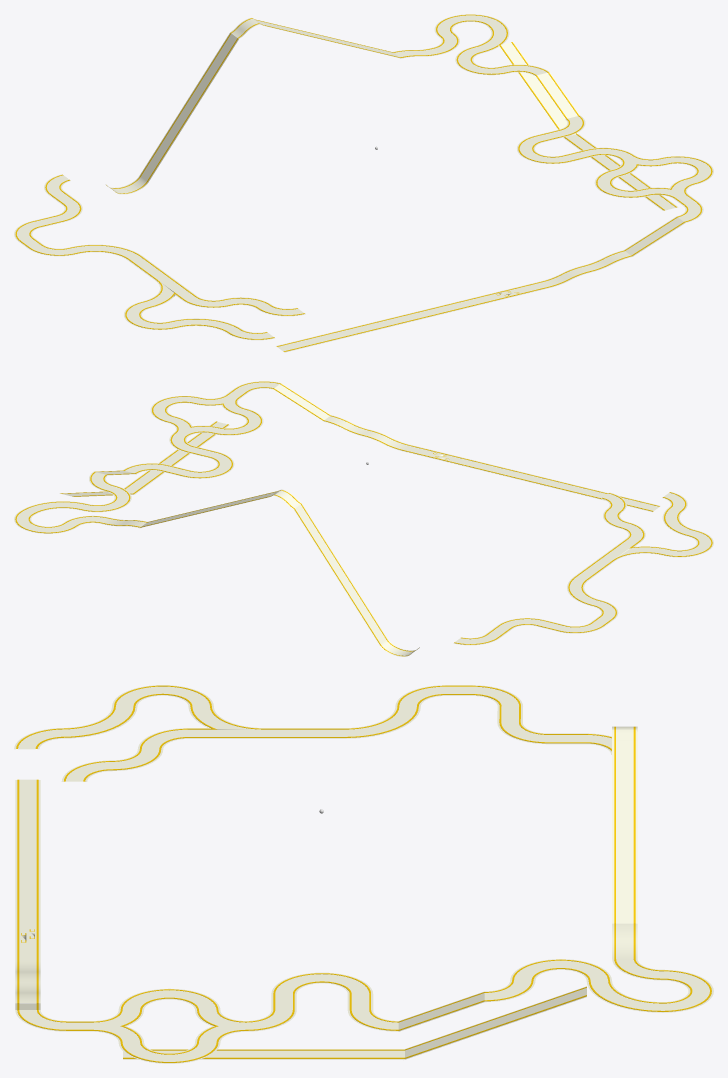
File: pistaAAAOOO.fbx
3 views of the same model, one above another, from view 1: azimuth 30°, elevation 25°; view 2: azimuth 150°, elevation 25°; view 3: azimuth 270°, elevation 25° (orthographic). The views are drawn at different scales.
Parts seen in each view (by area): view 1: roadStraightLong.001, roadStraightLong.014, roadCornerLarge.010, roadStraightLong.004, roadStraightLong.003, roadStraightLong.011, roadSplitLarger.001, roadCornerLarge.013, roadStraightLong.013, roadCornerLarge.014, roadStraightLong.012, roadCornerLarge.009 (+6 smaller); view 2: roadStraightLong.014, roadStraightLong.001, roadCornerLarge.010, roadStraightLong.003, roadSplitLarger.001, roadCornerLarge.014, roadCornerLarge.009, roadCornerLarge.026, roadStraightLong.013, roadCornerLarge.013, roadStraightLong.012, roadCornerLarger (+4 smaller); view 3: roadStraightLong.013, roadStraightLong.001, roadCornerLarge.010, roadStraightLong.003, roadStraightLong.004, roadSplitLarger.001, roadCornerLarge.013, roadCornerLarge.026, roadCornerLarge.009, roadCornerLarge.014, roadCornerLarger.001, roadCornerLarger (+18 smaller).
Part boxes in pixels (box(x1,y1,x2,y2)): roadStraightLong.001: box(276, 293, 501, 352); roadStraightLong.014: box(139, 33, 238, 182); roadCornerLarge.010: box(594, 156, 713, 197); roadStraightLong.004: box(498, 42, 577, 135); roadStraightLong.003: box(563, 134, 678, 210); roadStraightLong.011: box(534, 72, 580, 119); roadSplitLarger.001: box(142, 277, 197, 307); roadCornerLarge.013: box(455, 47, 509, 75); roadStraightLong.013: box(259, 20, 400, 58); roadCornerLarge.014: box(434, 14, 501, 36); roadStraightLong.012: box(624, 216, 685, 256); roadCornerLarge.009: box(517, 135, 570, 163); roadStraightLong.014: box(294, 504, 387, 645); roadStraightLong.001: box(447, 456, 660, 512); roadCornerLarge.010: box(150, 396, 263, 435); roadStraightLong.003: box(124, 421, 229, 494); roadSplitLarger.001: box(601, 538, 670, 560); roadCornerLarge.014: box(14, 512, 77, 533); roadCornerLarge.009: box(183, 451, 234, 478); roadCornerLarge.026: box(663, 530, 713, 557); roadStraightLong.013: box(140, 492, 274, 527); roadCornerLarge.013: box(80, 485, 131, 512); roadStraightLong.012: box(273, 383, 330, 421); roadCornerLarger: box(19, 501, 88, 515); roadStraightLong.013: box(612, 739, 637, 923); roadStraightLong.001: box(15, 779, 40, 928); roadCornerLarge.010: box(118, 988, 220, 1063); roadStraightLong.003: box(123, 1049, 404, 1059); roadStraightLong.004: box(404, 986, 586, 1059); roadSplitLarger.001: box(188, 706, 264, 738); roadCornerLarge.013: box(510, 959, 611, 980); roadCornerLarge.026: box(112, 685, 213, 706); roadCornerLarge.009: box(271, 972, 372, 994); roadCornerLarge.014: box(663, 969, 713, 1012); roadCornerLarger.001: box(344, 706, 420, 738); roadCornerLarger: box(586, 980, 662, 1012).
Size of the model in its own units: 61.15 by 13.82 by 45.25.
